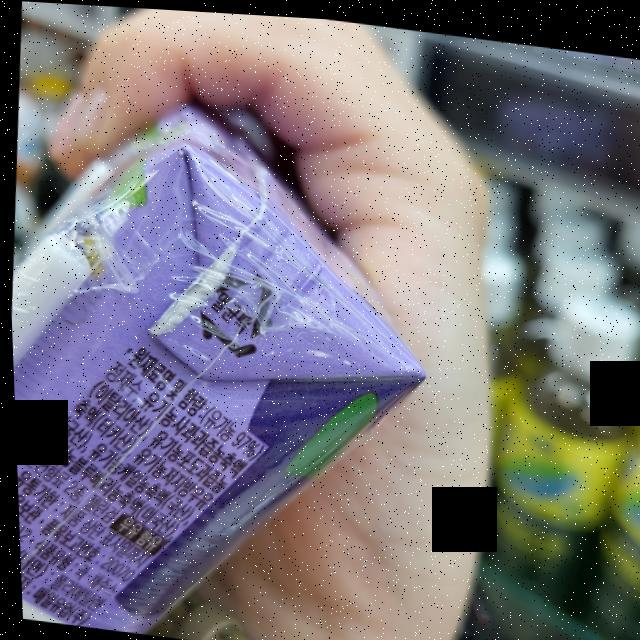SterilizedPack: (188, 265, 276, 356)
